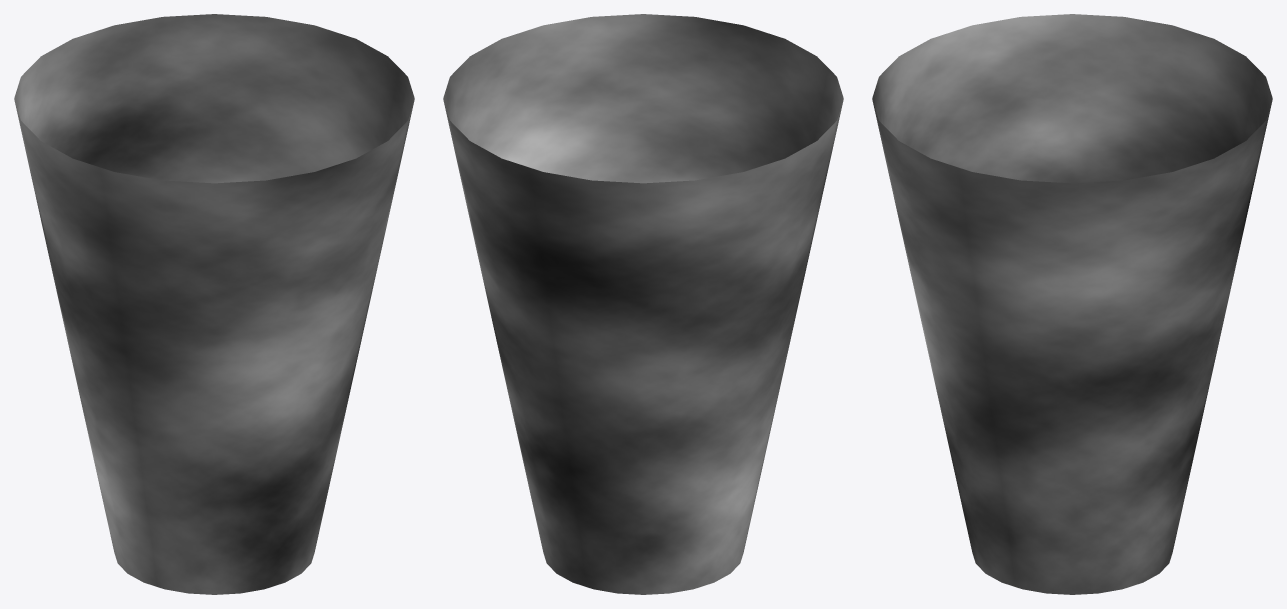
The model's file is tornado.FBX.
The picture shows the model from 3 angles, left to right: view 1: azimuth 30°, elevation 25°; view 2: azimuth 150°, elevation 25°; view 3: azimuth 270°, elevation 25°; orthographic projection.
Parts seen in each view (by area): view 1: Cone001; view 2: Cone001; view 3: Cone001.
Boxes of the visible parts, left/top/right/bottom form: Cone001: left=14, top=14, right=414, bottom=594; Cone001: left=443, top=14, right=843, bottom=594; Cone001: left=872, top=14, right=1272, bottom=594.
Size of the model in its own units: 40 by 50 by 40.
1 material, 1 textured.
